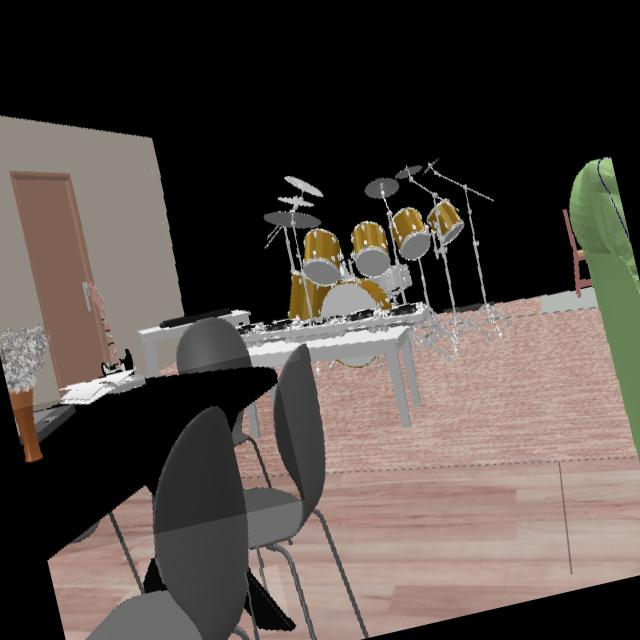table: (25, 367, 276, 558), (306, 327, 423, 426), (250, 571, 290, 630), (248, 339, 297, 365), (145, 558, 164, 590)
